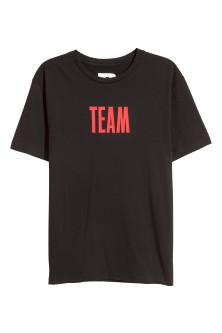teeshirt: (6, 44, 222, 297)
